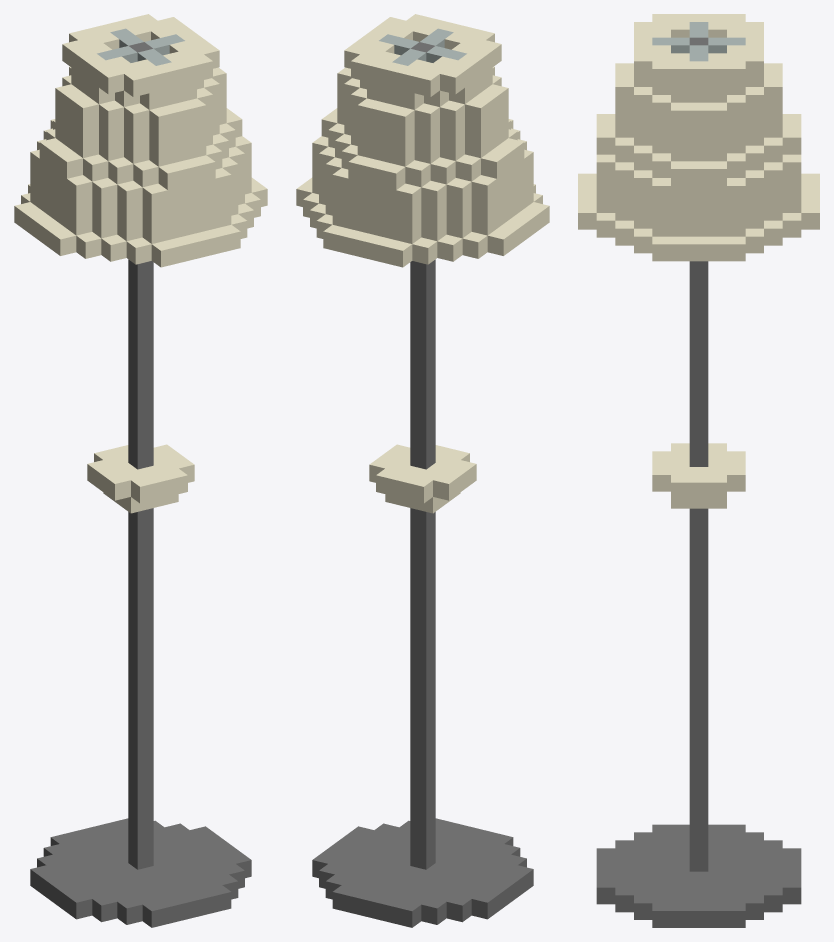
File: floorlight.obj
The picture shows the model from 3 angles, left to right: view 1: azimuth 30°, elevation 25°; view 2: azimuth 150°, elevation 25°; view 3: azimuth 270°, elevation 25°; orthographic projection.
Size of the model in its own units: 1.3 by 5 by 1.3.
Materials: 1 (1 with a texture image).
